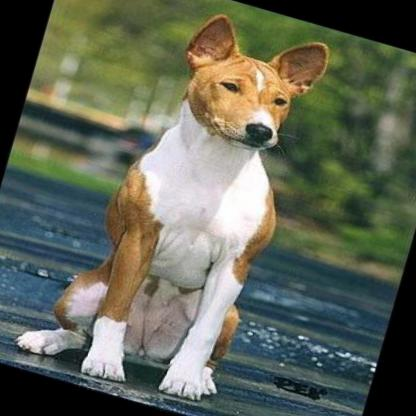basenji: (7, 0, 334, 416)
